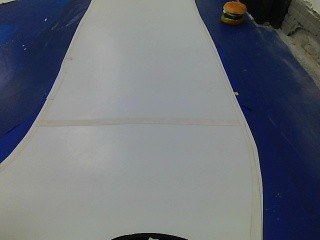burger: (210, 1, 253, 33)
